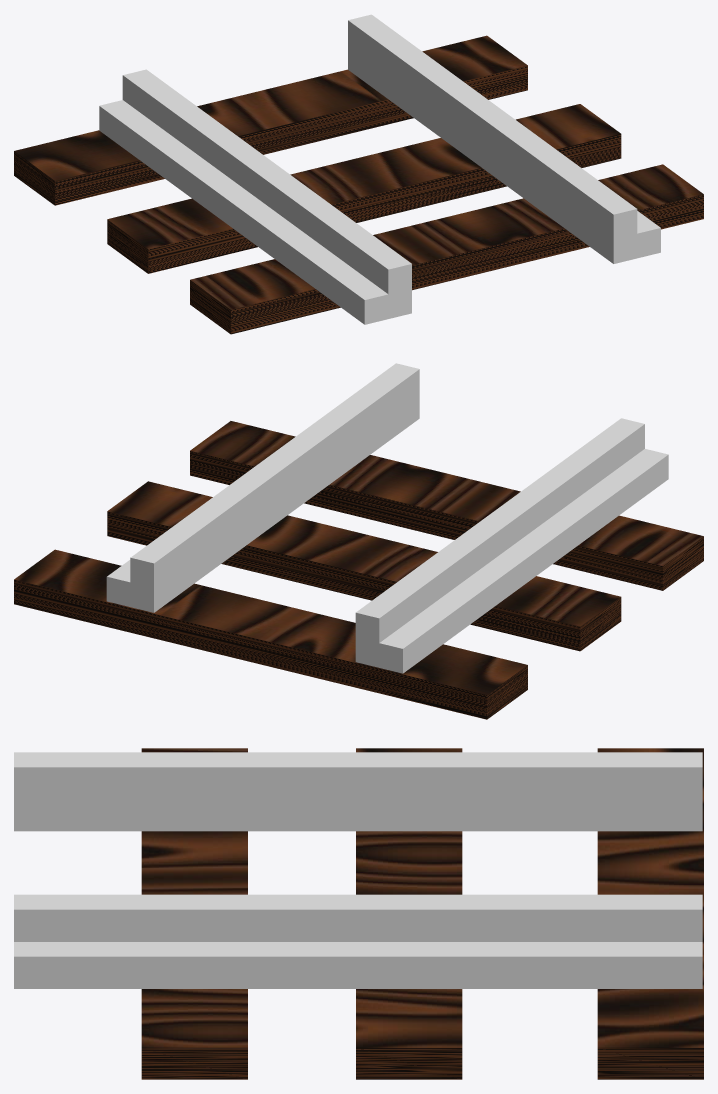
File: tracks.glb
The picture shows the model from 3 angles, top to bottom: view 1: azimuth 30°, elevation 25°; view 2: azimuth 150°, elevation 25°; view 3: azimuth 270°, elevation 25°; orthographic projection. The views are drawn at different scales.
Visible parts, largest first — view 1: Tracks; view 2: Tracks; view 3: Tracks.
Boxes of the visible parts, left/top/right/bottom form: Tracks: left=14, top=14, right=703, bottom=334; Tracks: left=14, top=363, right=703, bottom=719; Tracks: left=14, top=748, right=703, bottom=1079.
Bounding box in the file's own units: 0.2 × 0.0301 × 0.1949.
Materials: 2 (1 with a texture image).
